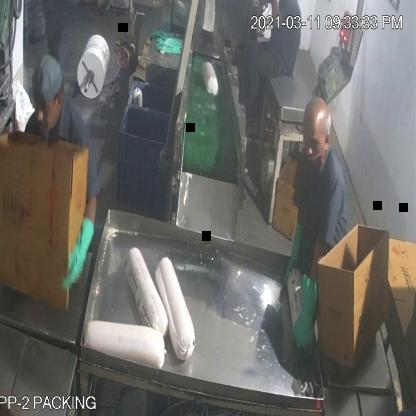glove: (54, 208, 98, 298), (295, 270, 324, 362)
